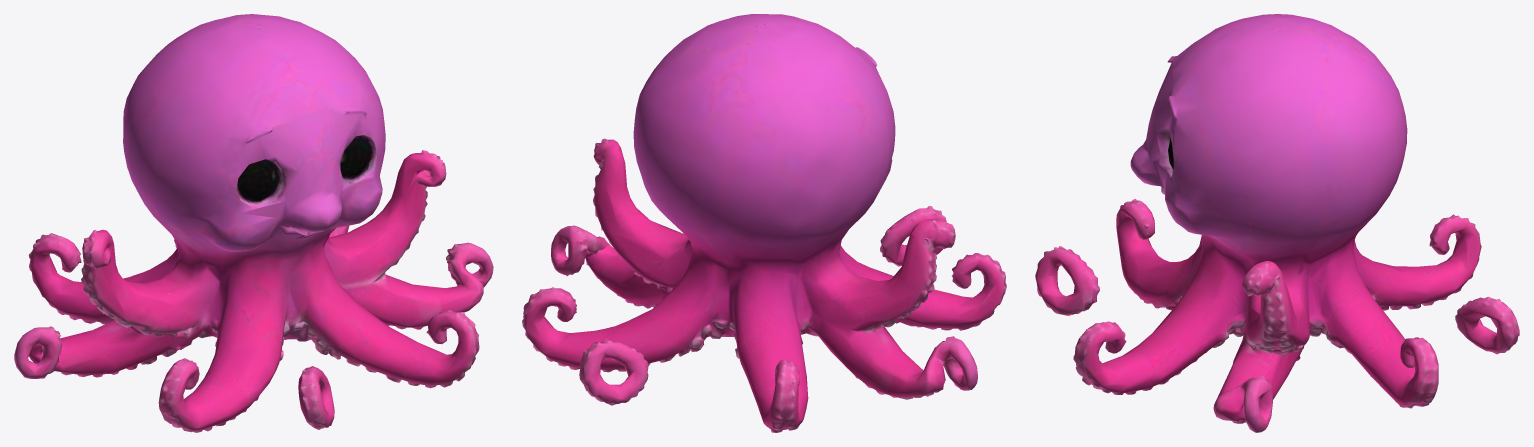
The model's file is octopus.glb.
3 views of the same model, side by side, from view 1: azimuth 30°, elevation 25°; view 2: azimuth 150°, elevation 25°; view 3: azimuth 270°, elevation 25° (orthographic).
Bounding box in the file's own units: 1.9 × 1.3 × 1.79.
1 material, 1 textured.
